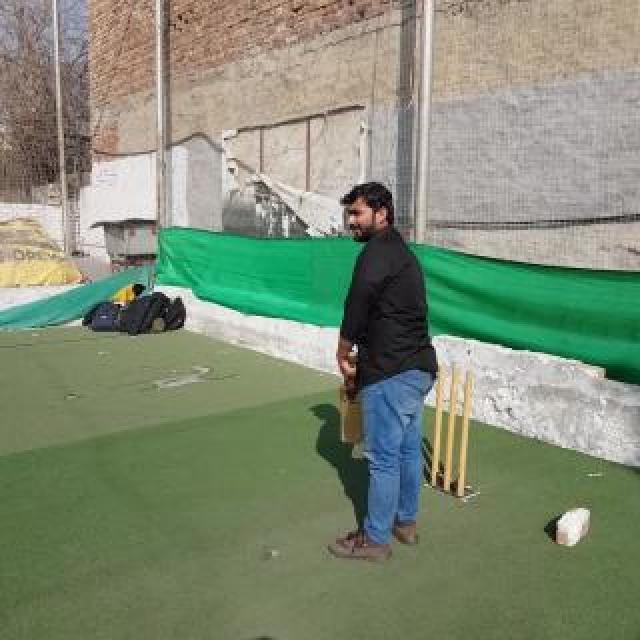bat: (341, 352, 363, 444)
